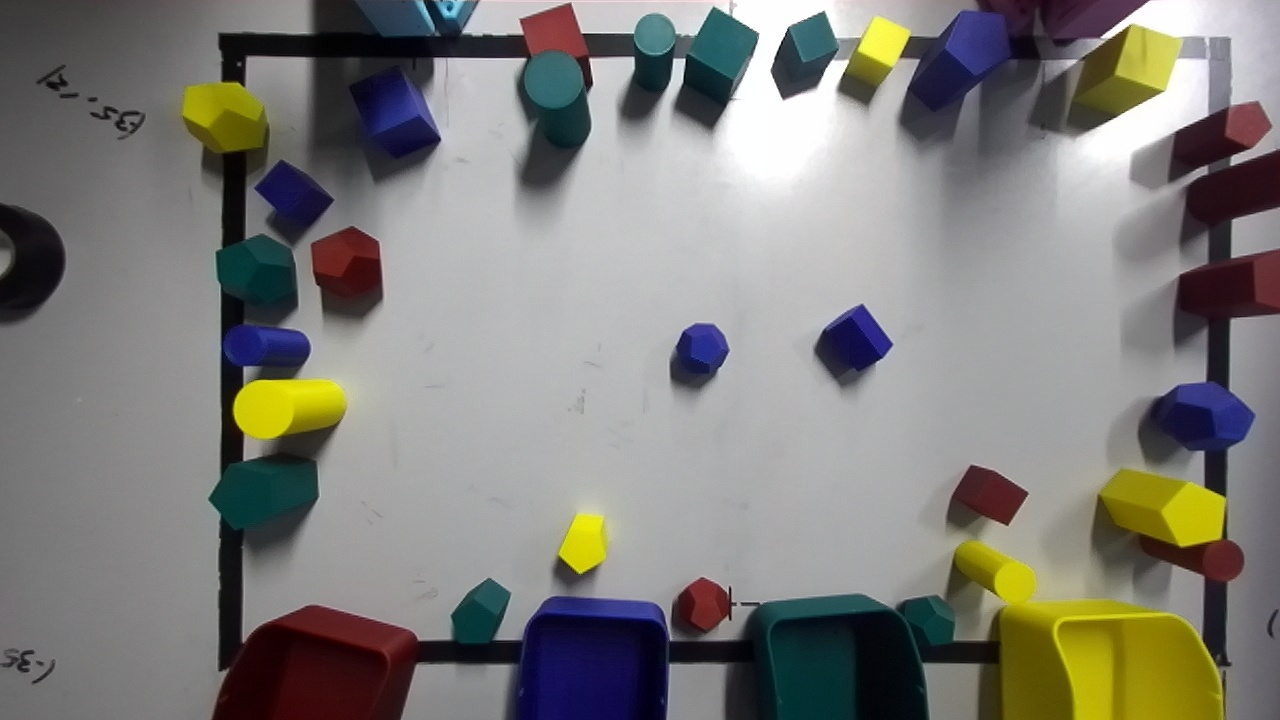bin: (1000, 600, 1221, 719), (212, 605, 418, 719), (752, 594, 928, 719), (516, 597, 668, 719)
cube: (1072, 24, 1180, 114), (349, 66, 440, 157), (684, 7, 758, 102), (520, 4, 592, 88), (771, 12, 838, 98), (772, 12, 838, 97), (254, 160, 332, 225), (951, 464, 1028, 525), (844, 16, 909, 86)
cylinder: (1139, 497, 1244, 581), (1186, 150, 1279, 224), (233, 379, 346, 438), (523, 50, 589, 147), (953, 540, 1035, 603), (222, 324, 310, 366), (632, 13, 676, 91)
dodecahedron: (1150, 382, 1255, 450), (182, 82, 267, 152), (215, 234, 296, 303), (310, 226, 381, 298), (672, 577, 731, 631), (895, 595, 954, 648), (675, 322, 728, 374)
hexagonal: (908, 11, 1010, 110), (1099, 469, 1225, 547), (208, 455, 318, 529), (1177, 249, 1279, 319), (1172, 101, 1271, 166), (815, 304, 892, 378), (451, 578, 510, 643), (557, 513, 607, 573)
